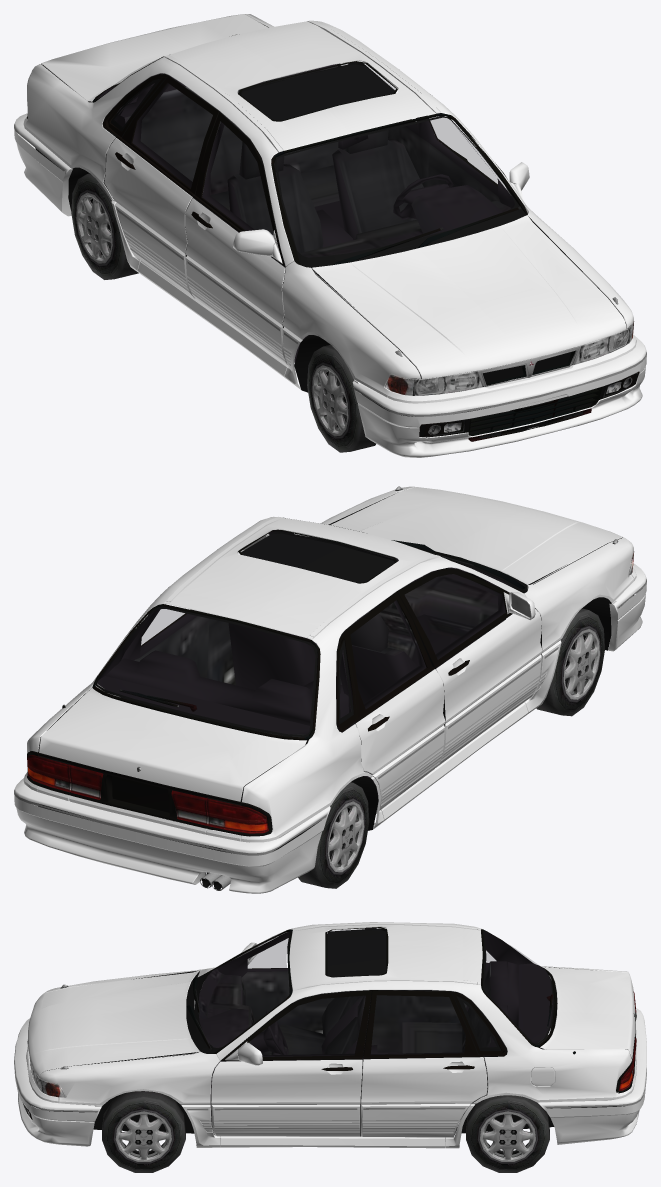
File: gt_galant_mid.glb
3 views of the same model, one above another, from view 1: azimuth 30°, elevation 25°; view 2: azimuth 150°, elevation 25°; view 3: azimuth 270°, elevation 25° (orthographic). The views are drawn at different scales.
Parts seen in each view (by area): view 1: Object_4, Object_16, Object_18, Object_10, Object_8, WHEEL_RF_TIRE, Object_20, Object_6, WHEEL_RR_TIRE, Object_12, WHEEL_RR_RIM, WHEEL_RF_RIM (+1 smaller); view 2: Object_4, Object_16, Object_18, Object_10, Object_8, Object_20, WHEEL_RF_TIRE, WHEEL_RR_TIRE, Object_6, Object_12, WHEEL_RF_RIM, WHEEL_RR_RIM (+1 smaller); view 3: Object_4, Object_16, Object_18, Object_10, Object_8, WHEEL_LF_TIRE, WHEEL_LR_TIRE, WHEEL_LF_RIM, WHEEL_LR_RIM, Object_12, Object_6, Object_20.
Boxes of the visible parts, <box> form: Object_4: <box>14,14,646,457</box>; Object_16: <box>97,60,634,435</box>; Object_18: <box>97,62,514,362</box>; Object_10: <box>27,34,639,441</box>; Object_8: <box>27,24,638,442</box>; WHEEL_RF_TIRE: <box>307,344,375,452</box>; Object_20: <box>385,321,634,395</box>; Object_6: <box>14,126,646,434</box>; WHEEL_RR_TIRE: <box>71,173,138,279</box>; Object_12: <box>95,78,519,263</box>; WHEEL_RR_RIM: <box>76,192,112,263</box>; WHEEL_RF_RIM: <box>312,365,348,436</box>; Object_4: <box>14,486,646,893</box>; Object_16: <box>97,532,513,734</box>; Object_18: <box>97,529,513,799</box>; Object_10: <box>27,489,634,835</box>; Object_8: <box>27,492,622,889</box>; Object_20: <box>27,551,634,833</box>; WHEEL_RF_TIRE: <box>536,608,604,716</box>; WHEEL_RR_TIRE: <box>298,782,369,888</box>; Object_6: <box>14,487,646,890</box>; Object_12: <box>95,564,518,736</box>; WHEEL_RF_RIM: <box>563,628,599,699</box>; WHEEL_RR_RIM: <box>327,801,364,872</box>; Object_4: <box>14,922,646,1148</box>; Object_16: <box>24,928,552,1118</box>; Object_18: <box>198,928,552,1121</box>; Object_10: <box>23,927,636,1119</box>; Object_8: <box>29,928,634,1145</box>; WHEEL_LF_TIRE: <box>102,1091,185,1172</box>; WHEEL_LR_TIRE: <box>466,1095,549,1172</box>; WHEEL_LF_RIM: <box>115,1111,171,1161</box>; WHEEL_LR_RIM: <box>480,1111,535,1161</box>; Object_12: <box>194,930,554,1052</box>; Object_6: <box>14,944,646,1115</box>; Object_20: <box>30,991,635,1097</box>.
Bounding box in the file's own units: 1.91 × 1.42 × 4.58.
9 materials, 7 textured.
